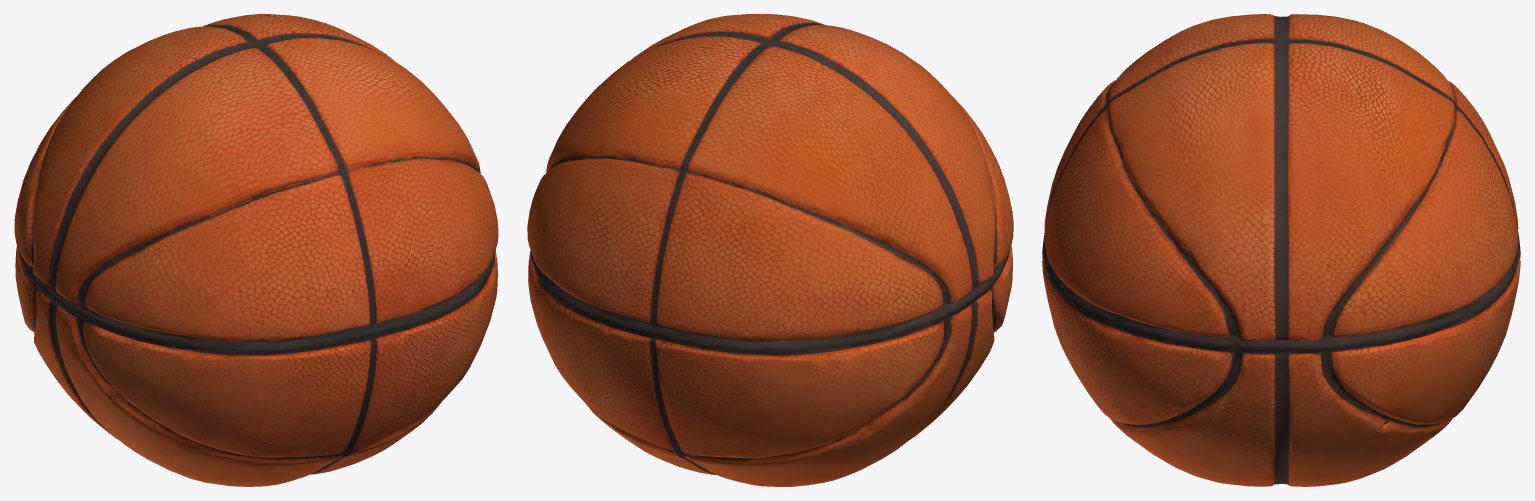
The model's file is basketball.glb.
The picture shows the model from 3 angles, left to right: view 1: azimuth 30°, elevation 25°; view 2: azimuth 150°, elevation 25°; view 3: azimuth 270°, elevation 25°; orthographic projection.
Parts seen in each view (by area): view 1: tripo_node_36d3fbc9-8f83-4891-a3dc-739c2224ed9f; view 2: tripo_node_36d3fbc9-8f83-4891-a3dc-739c2224ed9f; view 3: tripo_node_36d3fbc9-8f83-4891-a3dc-739c2224ed9f.
Boxes of the visible parts, box(x1,y1,x2,y2) form: tripo_node_36d3fbc9-8f83-4891-a3dc-739c2224ed9f: box(14, 14, 498, 486); tripo_node_36d3fbc9-8f83-4891-a3dc-739c2224ed9f: box(527, 14, 1013, 486); tripo_node_36d3fbc9-8f83-4891-a3dc-739c2224ed9f: box(1042, 14, 1520, 486).
Bounding box in the file's own units: 1 × 0.9741 × 0.9987.
Materials: 1 (1 with a texture image).
